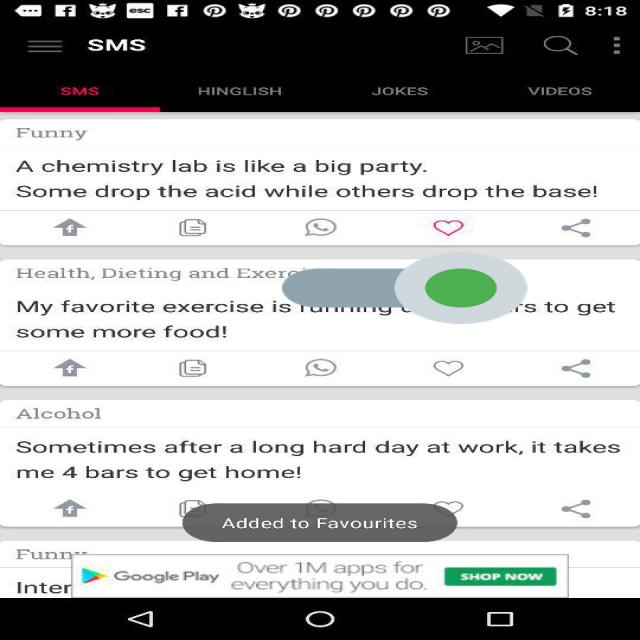social proof: (282, 221, 527, 355)
